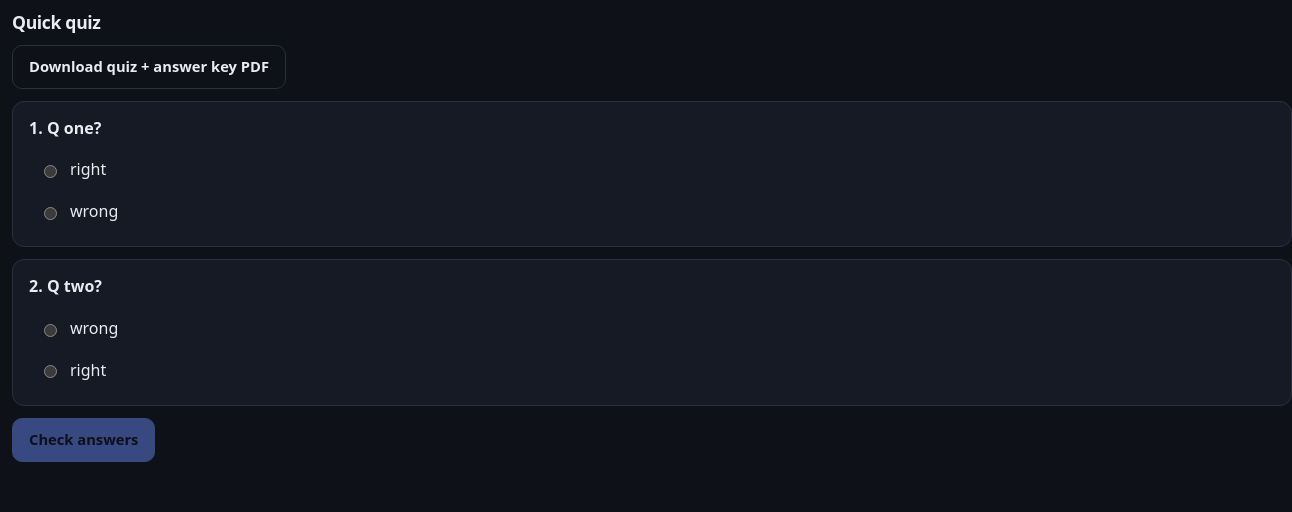
Scenario: Quiz › needs every answer before Check is on, then shows the score
Expected: the button "Check answers" is disabled, top-left (12, 418), bottom-right (155, 462)
Click the radio button labelled "right" below "Q one?".
click(50, 172)  # box top-left (44, 165), bottom-right (57, 178)
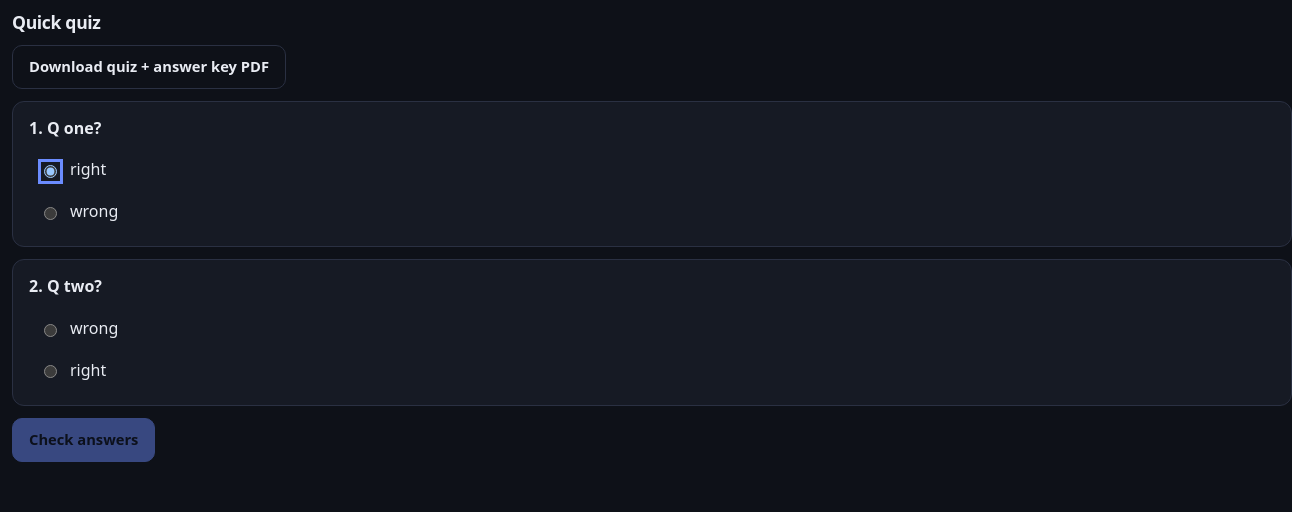
Expected: the button "Check answers" is disabled, top-left (12, 418), bottom-right (155, 462)
Click the radio button labelled "wrong" below "Q two?".
click(50, 330)  # box top-left (44, 324), bottom-right (57, 337)
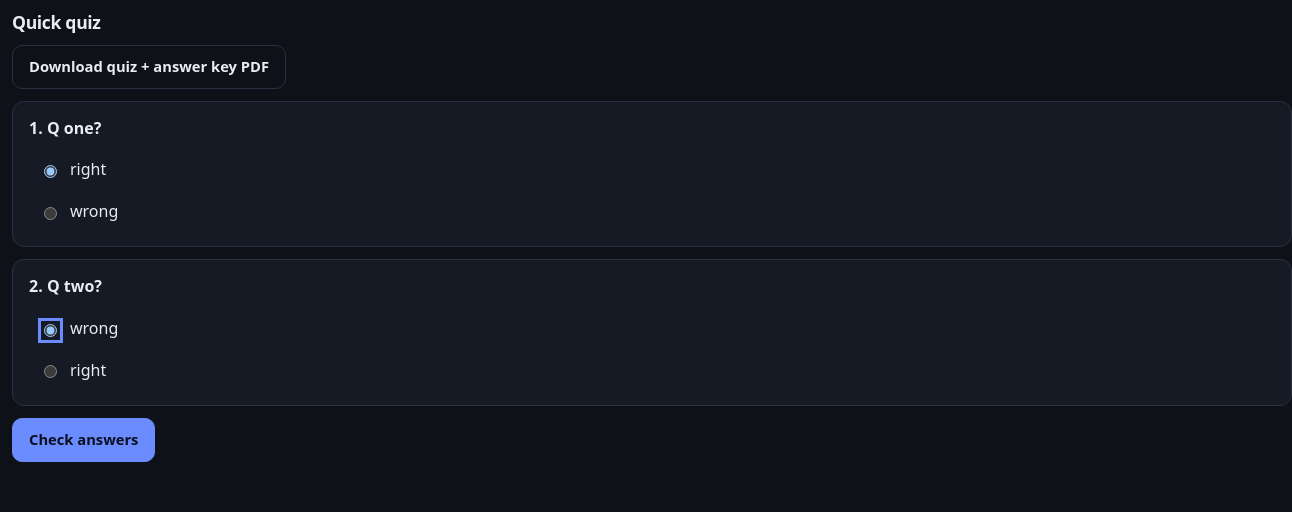
Click the button "Check answers".
click(84, 440)  # box top-left (12, 418), bottom-right (155, 462)
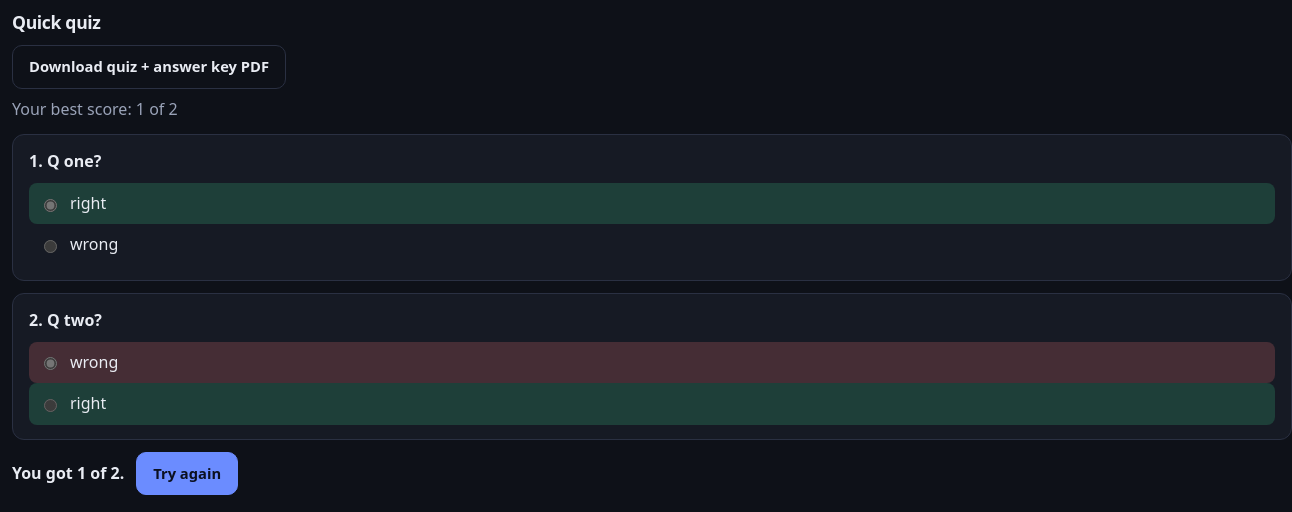
Expected: the text "You got 1 of 2." is shown, top-left (12, 461), bottom-right (124, 486)
